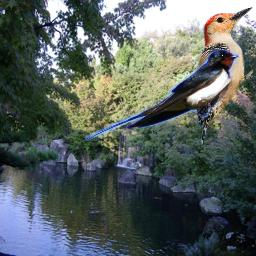Swallow: (83, 49, 239, 141)
Woodpecker: (197, 6, 253, 145)
